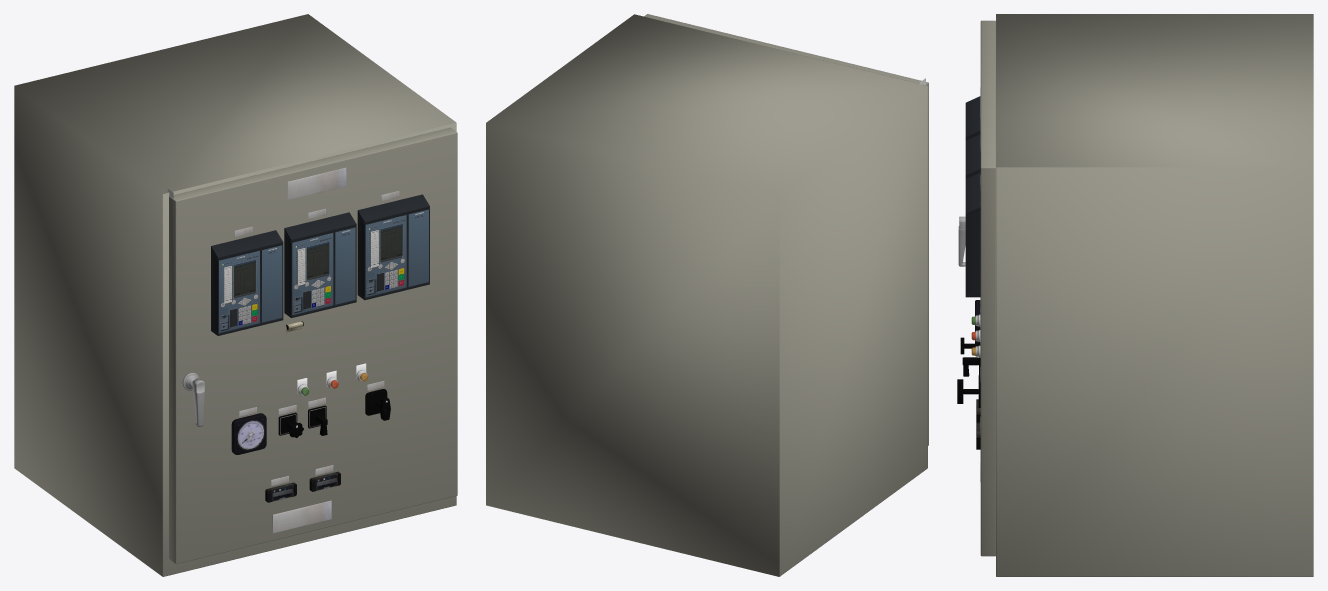
3 renders of one model, left to right at view 1: azimuth 30°, elevation 25°; view 2: azimuth 150°, elevation 25°; view 3: azimuth 270°, elevation 25°, orthographic. The views are drawn at different scales.
Parts seen in each view (by area): view 1: Group002, u1_door_b, Box237, Box241, Box233, Box240, Box236, Box232, Box235, Box239, Box243, u01A_dia046 (+6 smaller); view 2: Group002, u1_door_b; view 3: Group002, u1_door_b, Box242.
Boxes of the visible parts, x1=… form: Group002: x1=14, y1=14, x2=456, y2=576; u1_door_b: x1=169, y1=127, x2=457, y2=564; Box237: x1=292, y1=233, x2=333, y2=315; Box241: x1=365, y1=215, x2=406, y2=297; Box233: x1=219, y1=251, x2=259, y2=332; Box240: x1=357, y1=200, x2=407, y2=300; Box236: x1=284, y1=218, x2=334, y2=317; Box232: x1=211, y1=235, x2=260, y2=335; Box235: x1=262, y1=245, x2=282, y2=322; Box239: x1=335, y1=227, x2=355, y2=304; Box243: x1=408, y1=209, x2=428, y2=286; u01A_dia046: x1=231, y1=413, x2=266, y2=454; Group002: x1=486, y1=14, x2=927, y2=576; u1_door_b: x1=644, y1=14, x2=928, y2=445; Group002: x1=964, y1=14, x2=1313, y2=576; u1_door_b: x1=980, y1=20, x2=995, y2=556; Box242: x1=965, y1=195, x2=980, y2=297.
Size of the model in its own units: 0.96 by 1.2 by 0.9424.
19 materials, 9 textured.
